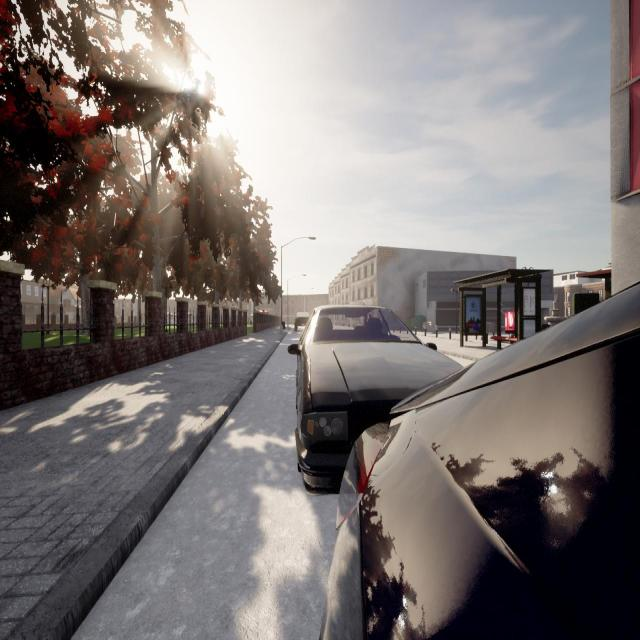Vehicle: (324, 280, 640, 640), (287, 302, 468, 491), (292, 310, 310, 332)
